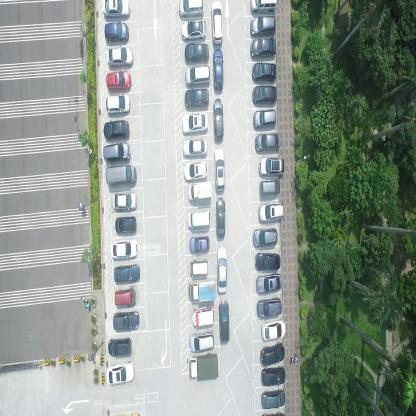car: (188, 352, 218, 381), (187, 277, 216, 305), (106, 359, 134, 387), (105, 163, 136, 187), (108, 238, 138, 261), (182, 112, 210, 135), (102, 142, 131, 164), (260, 316, 285, 341), (255, 270, 281, 294), (259, 340, 285, 364), (112, 263, 140, 285), (256, 295, 281, 319), (250, 13, 276, 36), (252, 225, 278, 248), (188, 329, 214, 352), (260, 387, 286, 410), (105, 70, 132, 92), (180, 18, 207, 40), (250, 35, 277, 57), (183, 160, 208, 183), (258, 154, 284, 176), (113, 310, 139, 332), (106, 47, 133, 68), (102, 120, 129, 141), (184, 65, 211, 86), (191, 304, 214, 328), (182, 137, 207, 159), (216, 243, 227, 293), (258, 200, 283, 222), (254, 131, 280, 152), (212, 97, 224, 142), (213, 147, 225, 192), (251, 60, 278, 80), (211, 0, 223, 45), (218, 298, 230, 343), (102, 0, 130, 19), (114, 285, 136, 309), (108, 334, 132, 356), (105, 94, 130, 115), (261, 366, 286, 387), (212, 48, 224, 91), (252, 107, 276, 128), (188, 180, 212, 201), (104, 22, 129, 42), (111, 192, 136, 212), (184, 42, 209, 62), (184, 88, 209, 108), (186, 208, 211, 228), (254, 251, 280, 270), (178, 0, 205, 18), (215, 197, 226, 240), (252, 84, 278, 102), (188, 256, 208, 278), (259, 178, 280, 198), (114, 216, 136, 235), (189, 235, 210, 254), (250, 0, 276, 14)
